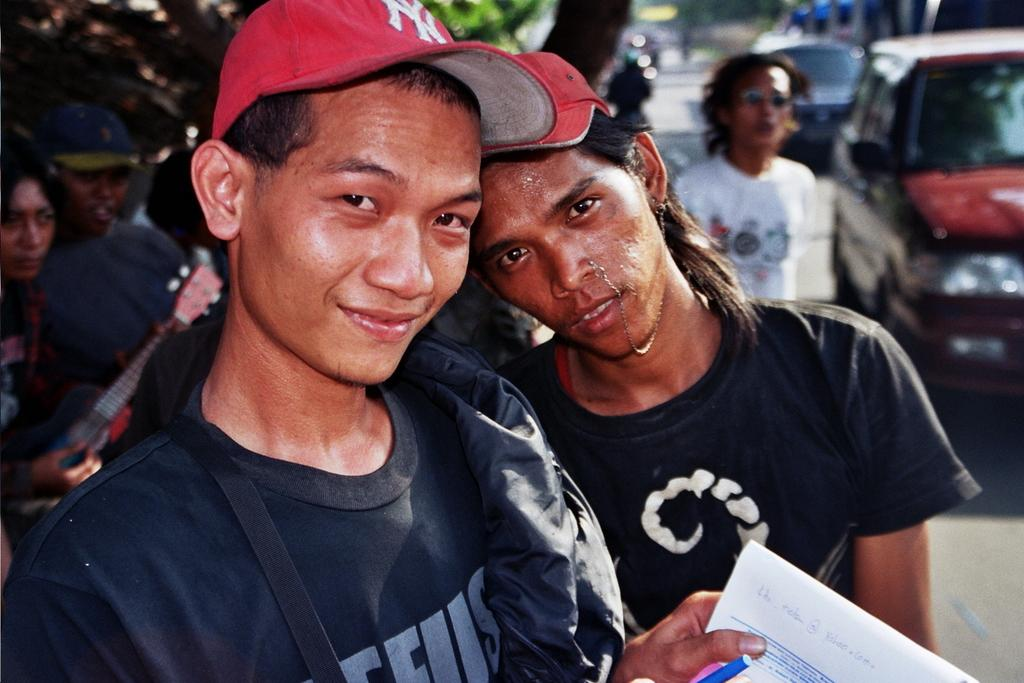Hat: (213, 0, 552, 159), (478, 51, 613, 154), (32, 106, 151, 172)
